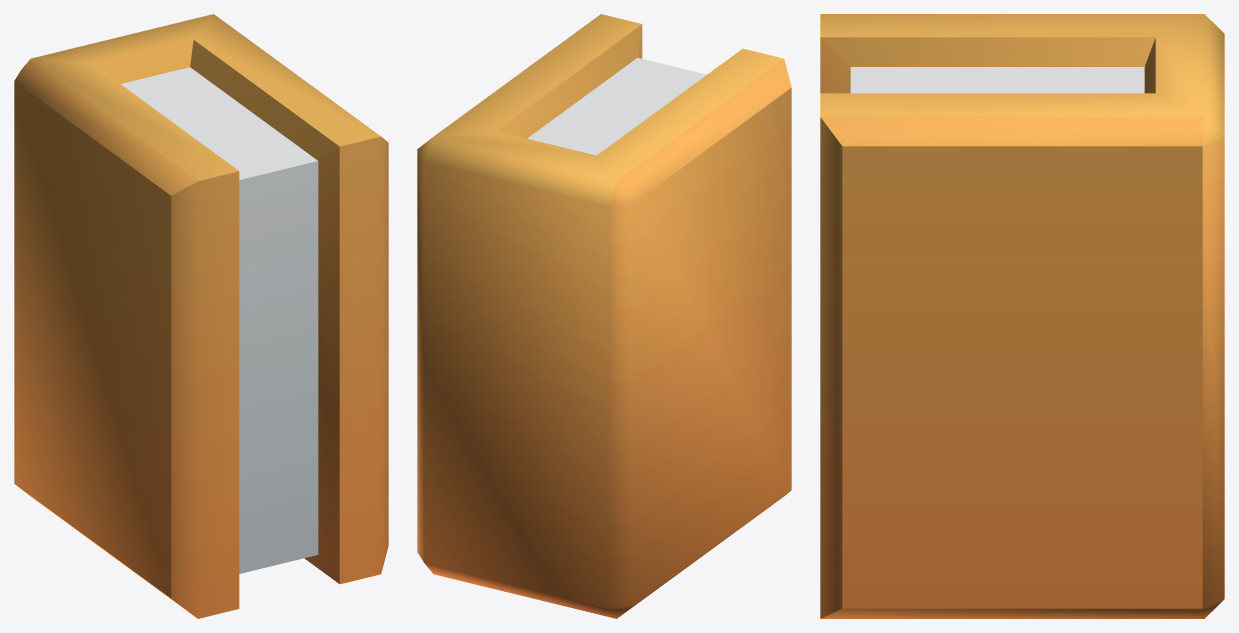
File: book_single.glb
3 views of the same model, side by side, from view 1: azimuth 30°, elevation 25°; view 2: azimuth 150°, elevation 25°; view 3: azimuth 270°, elevation 25° (orthographic). The views are drawn at different scales.
Parts seen in each view (by area): view 1: book_single; view 2: book_single; view 3: book_single.
Part boxes in pixels (x1,y1,x2,y2): book_single: (14, 14, 388, 618); book_single: (417, 14, 791, 618); book_single: (820, 14, 1224, 618).
Size of the model in its own units: 0.26 by 0.5 by 0.365.
Materials: 1 (1 with a texture image).
